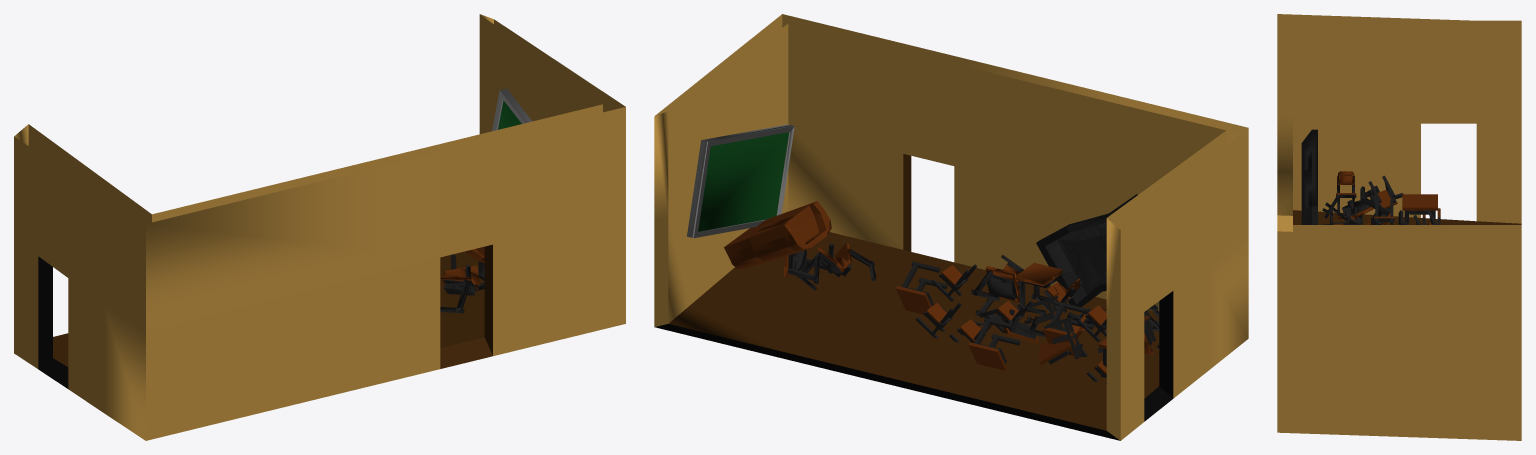
The model's file is school1.FBX.
3 renders of one model, left to right at view 1: azimuth 30°, elevation 25°; view 2: azimuth 150°, elevation 25°; view 3: azimuth 270°, elevation 25°, orthographic. The views are drawn at different scales.
Visible parts, largest first — view 1: Box001; view 2: Box001; view 3: Box001.
Boxes of the visible parts, x1,y1,x2,y2 form: Box001: [14, 14, 625, 440]; Box001: [654, 14, 1248, 440]; Box001: [1277, 14, 1521, 440].
Bounding box in the file's own units: 1025 × 461 × 487.
